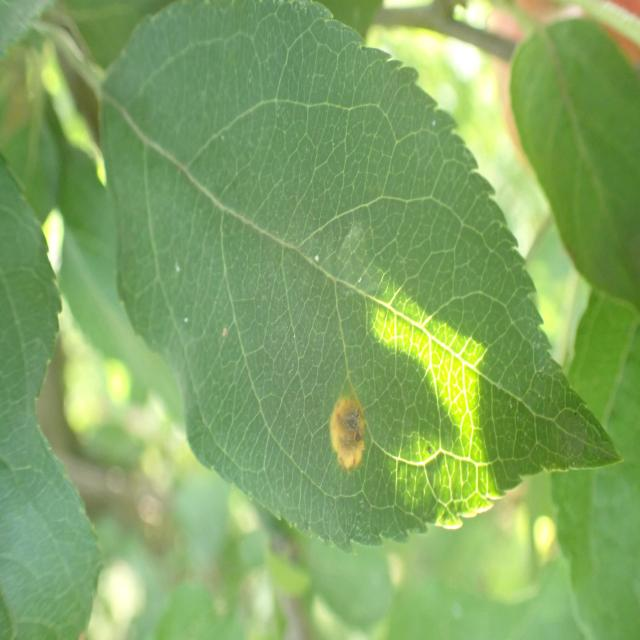Rust: (317, 355, 375, 514)
